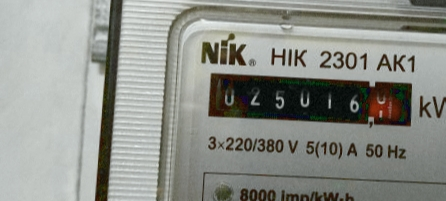0: (296, 85, 312, 109), (220, 85, 235, 107), (373, 84, 386, 105)
1: (321, 85, 334, 111), (374, 107, 383, 119)
2: (246, 83, 261, 107)
5: (271, 88, 284, 109)
6: (345, 90, 360, 116)
screen: (196, 61, 422, 135)
